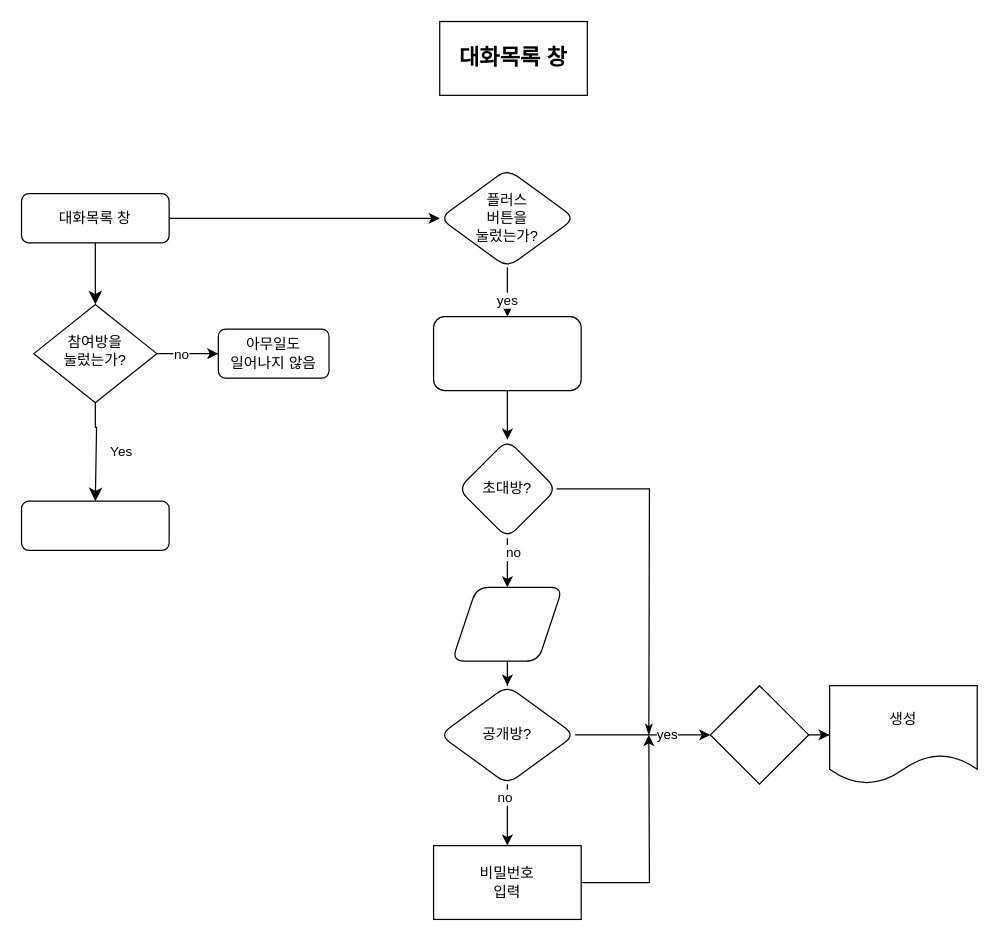
Image size: 999x941. Some labels were removed from this diagram. Here are the shapes that lost their labels. From the top down, the box of each, then its label:
(432, 315, 581, 391): 채널 생성 목록 창 열기
(20, 500, 169, 550): 해당 참여방으로이동
(451, 586, 563, 661): 채널명 입력
(709, 684, 809, 784): 확인버튼?
